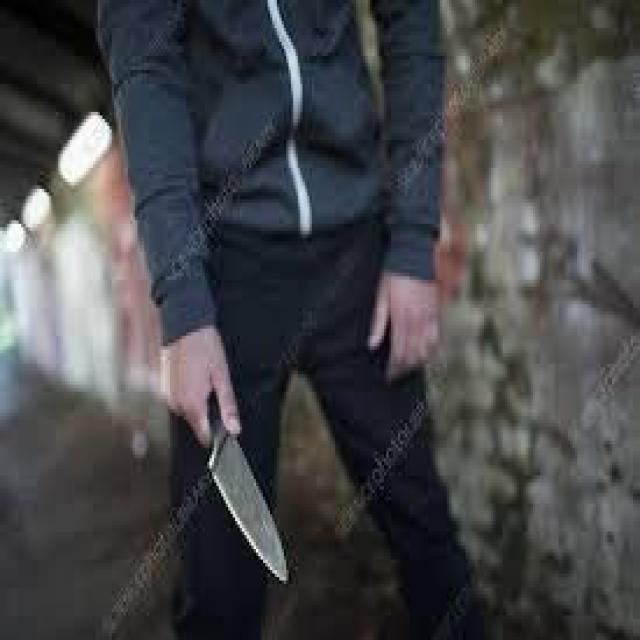faca: (158, 308, 305, 594)
